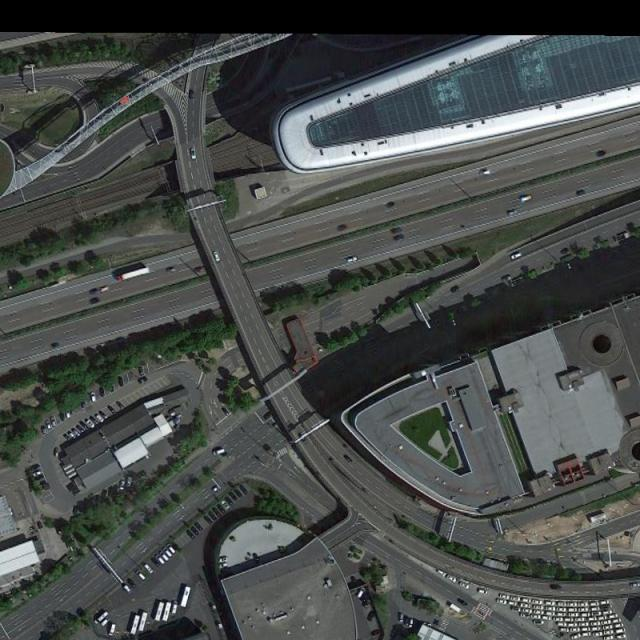vehicle: (114, 266, 151, 285), (92, 610, 110, 627), (130, 614, 142, 634), (154, 601, 166, 621), (181, 585, 191, 608), (162, 600, 173, 619), (143, 562, 156, 576), (140, 611, 149, 630), (164, 542, 177, 554), (210, 506, 223, 518), (218, 500, 231, 512), (223, 495, 235, 508), (125, 578, 138, 590), (150, 556, 162, 568), (202, 514, 214, 526), (215, 503, 227, 515), (210, 250, 221, 263), (239, 483, 250, 496), (345, 254, 358, 265), (231, 488, 244, 499), (188, 526, 201, 537), (161, 547, 174, 558), (185, 528, 198, 539), (366, 607, 375, 622), (86, 418, 98, 429), (227, 491, 239, 502), (153, 554, 165, 565), (122, 583, 134, 594), (434, 568, 447, 578), (457, 597, 470, 607), (108, 623, 118, 636), (507, 208, 521, 217), (520, 193, 534, 202), (212, 448, 226, 457), (158, 551, 169, 562), (193, 522, 204, 533), (207, 510, 218, 521), (357, 586, 366, 599), (444, 574, 458, 582), (137, 570, 147, 581), (100, 617, 110, 628), (390, 226, 402, 235), (554, 611, 569, 618), (589, 626, 602, 634), (96, 414, 106, 424), (336, 223, 347, 232), (45, 418, 52, 432), (479, 170, 491, 178), (614, 626, 626, 634), (458, 582, 470, 590), (601, 624, 614, 631), (530, 599, 543, 606), (126, 475, 133, 488), (71, 427, 80, 437), (68, 430, 77, 440), (601, 618, 612, 626), (611, 617, 622, 625), (614, 622, 625, 630), (451, 285, 462, 293), (579, 626, 591, 633), (510, 253, 524, 259), (578, 622, 590, 629), (530, 614, 542, 621), (118, 375, 125, 387), (509, 595, 521, 602), (578, 607, 590, 614), (194, 266, 206, 273), (108, 406, 117, 415), (116, 401, 125, 410), (80, 421, 89, 430), (630, 581, 640, 589), (544, 610, 554, 618), (396, 234, 406, 242), (608, 612, 618, 620), (99, 286, 109, 294), (596, 150, 606, 158), (567, 612, 580, 618), (555, 607, 568, 613), (510, 606, 521, 613), (571, 633, 582, 640), (567, 601, 578, 608), (520, 598, 531, 605), (496, 599, 507, 606), (550, 584, 562, 590), (534, 620, 546, 626), (532, 610, 544, 616), (577, 601, 589, 607), (592, 632, 604, 638), (590, 606, 602, 612), (602, 609, 614, 615), (616, 634, 628, 640), (507, 601, 519, 607), (75, 425, 84, 433), (63, 432, 71, 441), (120, 477, 126, 489), (90, 393, 97, 403), (89, 298, 99, 305), (603, 630, 614, 636), (601, 604, 612, 610), (478, 589, 489, 595), (409, 619, 415, 630), (519, 604, 530, 610), (88, 288, 99, 294), (138, 365, 144, 376), (191, 147, 196, 160), (50, 415, 55, 428), (66, 406, 71, 419), (570, 626, 578, 634), (521, 613, 530, 620), (165, 266, 174, 273), (502, 274, 511, 281), (561, 247, 570, 254), (218, 555, 227, 562), (568, 624, 580, 629), (543, 601, 555, 606), (498, 594, 510, 599), (591, 612, 603, 617), (386, 202, 396, 208), (577, 190, 587, 196), (530, 606, 544, 610), (220, 562, 228, 569), (591, 622, 602, 627), (553, 618, 564, 623), (564, 618, 575, 623), (575, 618, 586, 623), (604, 635, 615, 640), (567, 607, 578, 612), (41, 426, 47, 435), (34, 470, 43, 476), (542, 616, 552, 621), (522, 609, 532, 614), (598, 617, 608, 622), (600, 601, 610, 606), (555, 624, 567, 628), (586, 618, 598, 622), (582, 613, 590, 619), (60, 410, 64, 422), (101, 412, 107, 420), (54, 446, 58, 458), (582, 631, 591, 636), (590, 602, 599, 607), (399, 614, 404, 623), (545, 607, 554, 612), (559, 629, 570, 633), (556, 603, 567, 607), (213, 485, 218, 492)
